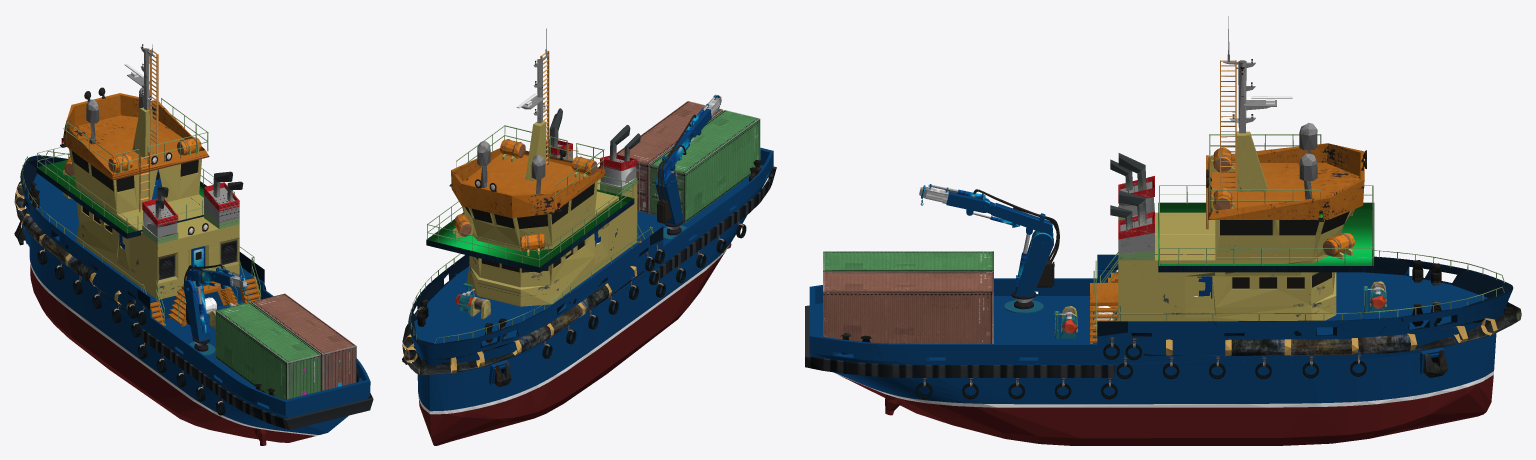
Rendered from offshore.glb.
3 renders of one model, left to right at view 1: azimuth 30°, elevation 25°; view 2: azimuth 150°, elevation 25°; view 3: azimuth 270°, elevation 25°, orthographic. The views are drawn at different scales.
Size of the model in its own units: 21.15 by 54.61 by 88.
44 materials, 39 textured.
